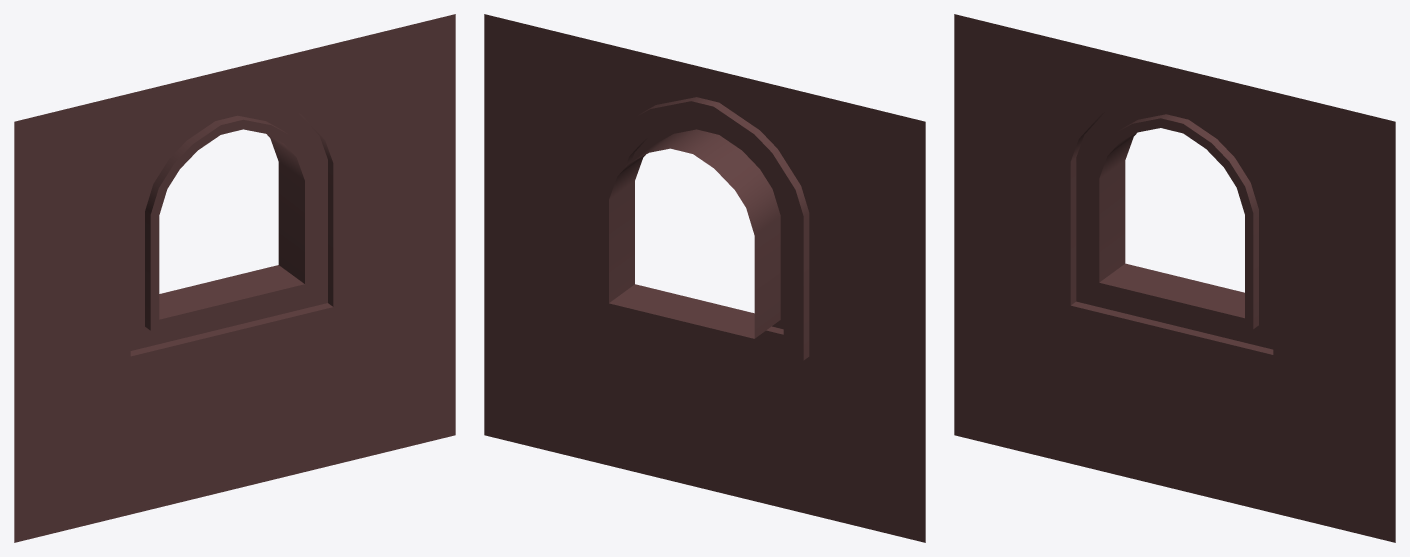
The model's file is AlleyWallB_1.fbx.
3 views of the same model, side by side, from view 1: azimuth 30°, elevation 25°; view 2: azimuth 150°, elevation 25°; view 3: azimuth 330°, elevation 25° (orthographic).
Visible parts, largest first — view 1: AlleyWallB_1; view 2: AlleyWallB_1; view 3: AlleyWallB_1.
Boxes of the visible parts, bbox=[...] form: AlleyWallB_1: bbox=[14, 14, 455, 542]; AlleyWallB_1: bbox=[484, 14, 925, 542]; AlleyWallB_1: bbox=[954, 14, 1395, 542].
Size of the model in its own units: 220 by 201 by 22.62.
